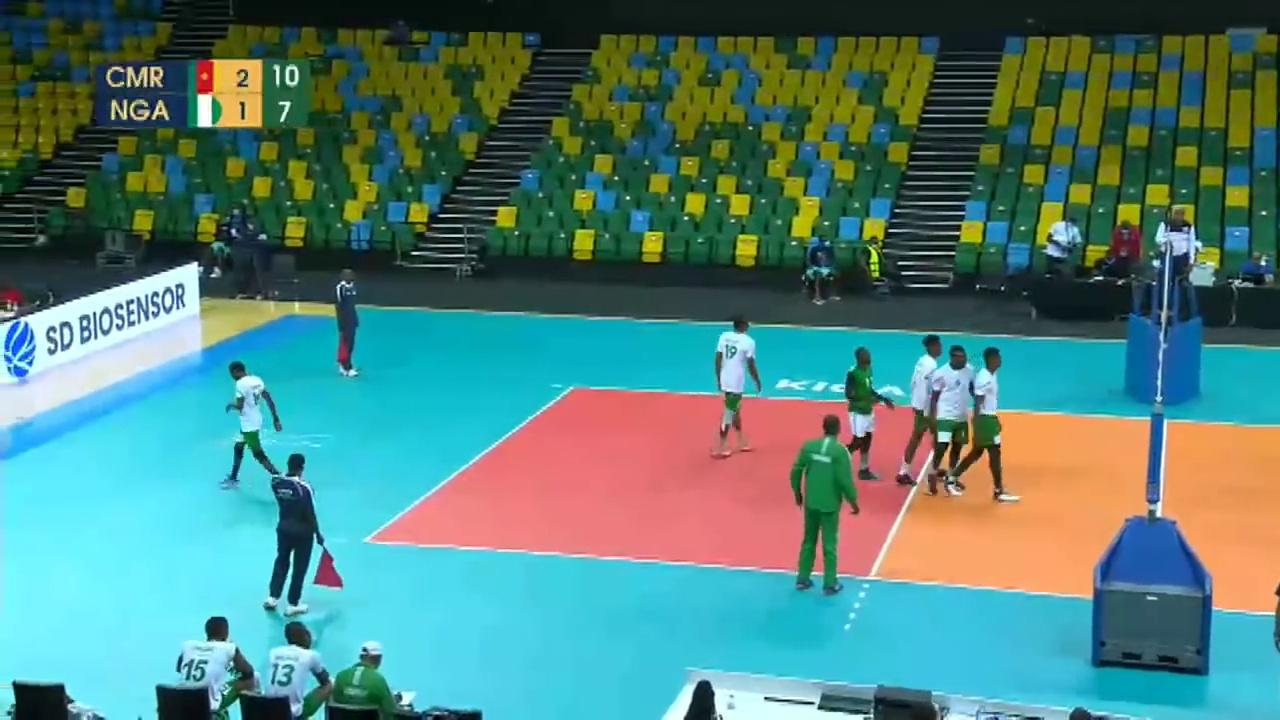player: (952, 348, 1015, 498), (222, 364, 287, 485), (906, 324, 948, 485), (843, 348, 894, 480), (715, 318, 763, 456), (938, 340, 979, 500)
refree: (265, 453, 341, 611), (1154, 203, 1201, 321), (333, 268, 360, 376)
